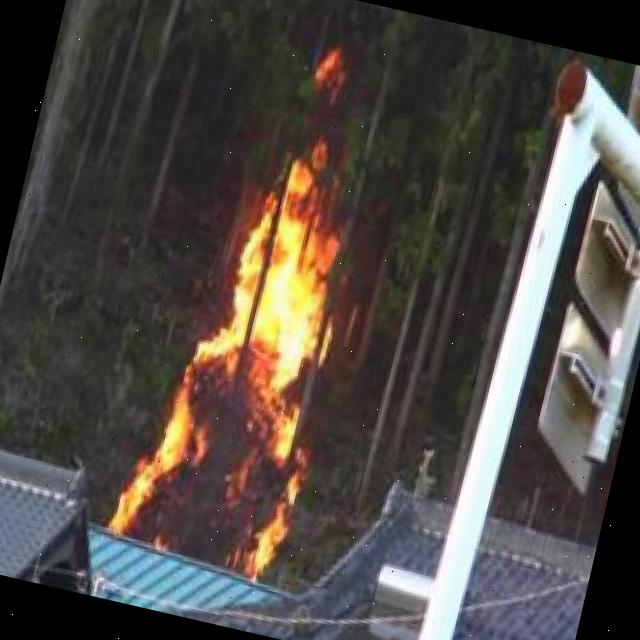fire: (105, 124, 380, 590)
